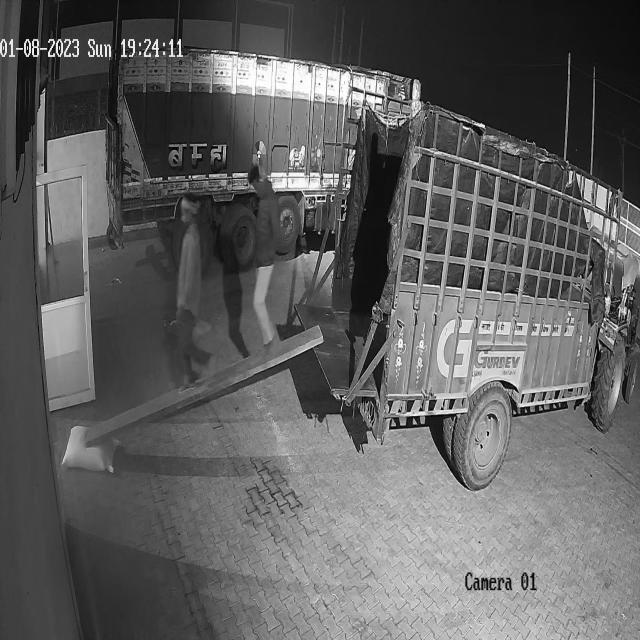sack: (62, 424, 119, 471)
